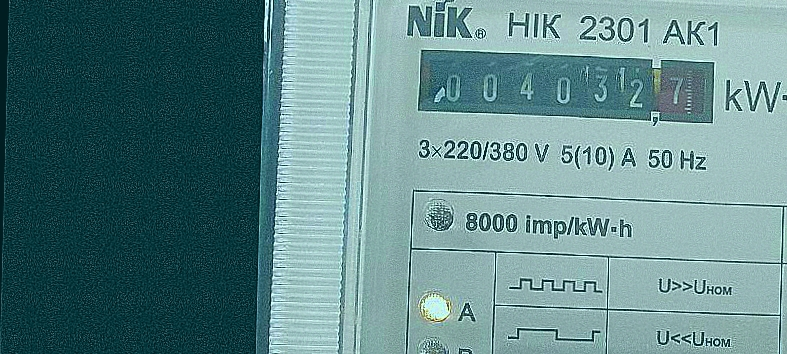0: (479, 70, 499, 104), (443, 69, 462, 103), (553, 72, 572, 106)
2: (626, 75, 645, 110)
3: (591, 71, 609, 104)
4: (516, 68, 536, 105)
7: (668, 73, 685, 107)
screen: (407, 40, 723, 136)
